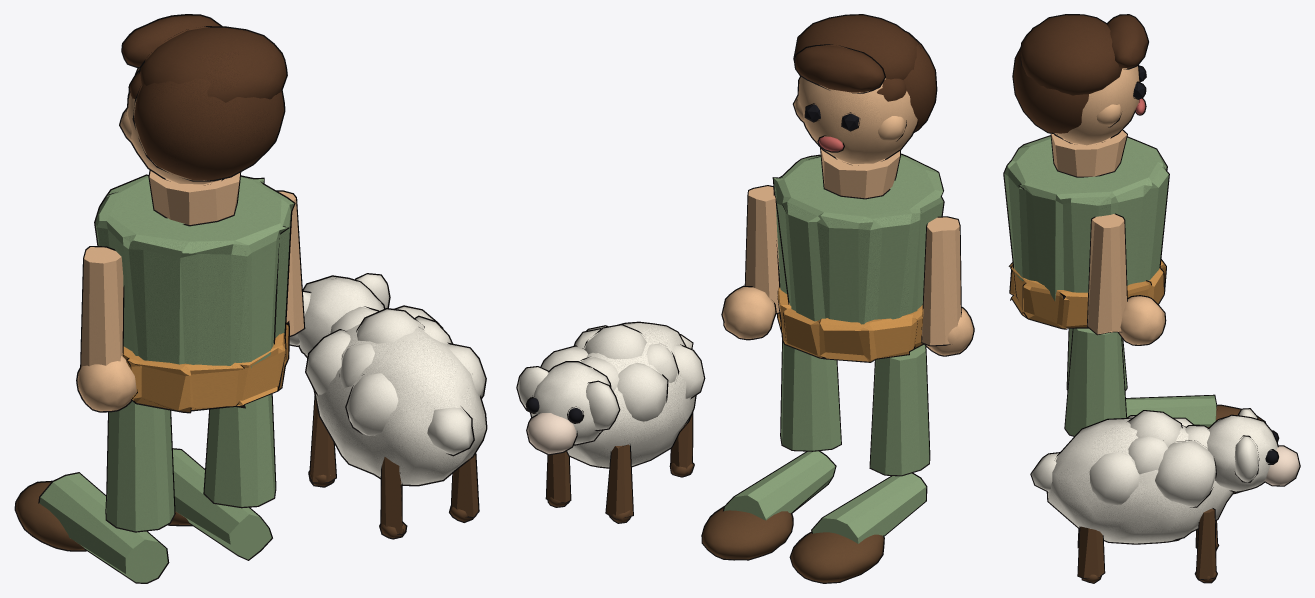
File: david_mentor_v9.glb
The picture shows the model from 3 angles, left to right: view 1: azimuth 30°, elevation 25°; view 2: azimuth 150°, elevation 25°; view 3: azimuth 270°, elevation 25°; orthographic projection. The views are drawn at different scales.
Visible parts, largest first — view 1: David_Mentor, David_Mentor_Outline; view 2: David_Mentor, David_Mentor_Outline; view 3: David_Mentor, David_Mentor_Outline.
Part boxes in pixels (x1,y1,x2,y2): David_Mentor: (16, 15, 485, 582); David_Mentor_Outline: (14, 14, 487, 583); David_Mentor: (517, 15, 973, 582); David_Mentor_Outline: (516, 14, 974, 583); David_Mentor: (1004, 15, 1299, 582); David_Mentor_Outline: (1003, 14, 1300, 583).
Size of the model in its own units: 0.9076 by 1.13 by 0.6706.
10 materials, 10 textured.
